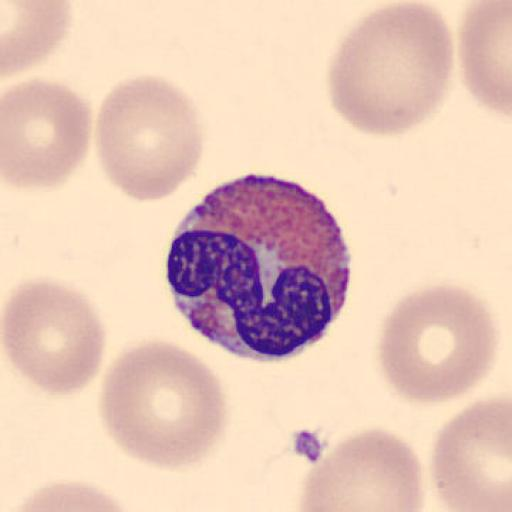RBC: (97, 337, 229, 473), (326, 1, 455, 139), (377, 283, 499, 407), (92, 72, 206, 204), (2, 273, 108, 397), (296, 427, 426, 512), (2, 76, 93, 192), (429, 396, 512, 511), (456, 0, 512, 118), (2, 1, 75, 81), (2, 476, 146, 512)
WBC: (164, 173, 352, 362)
